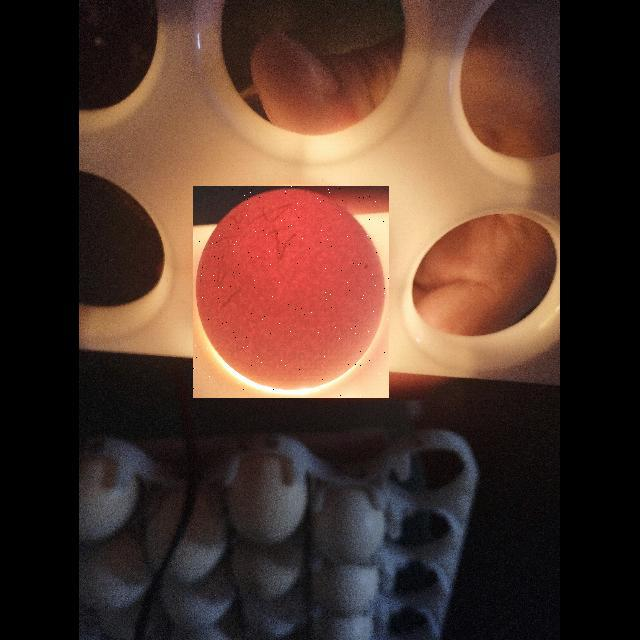Infertile: (193, 186, 389, 398)
